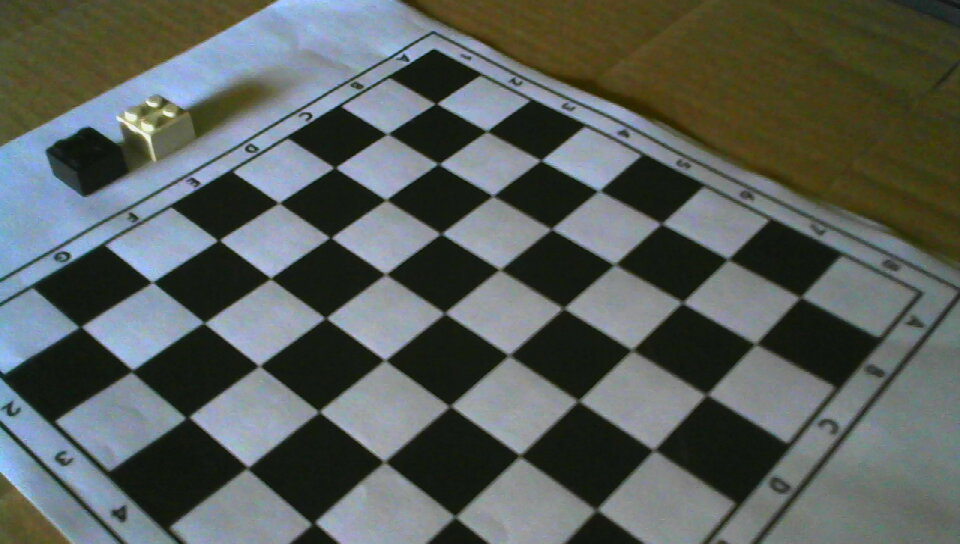bp: (45, 125, 123, 196)
wp: (120, 93, 199, 159)
